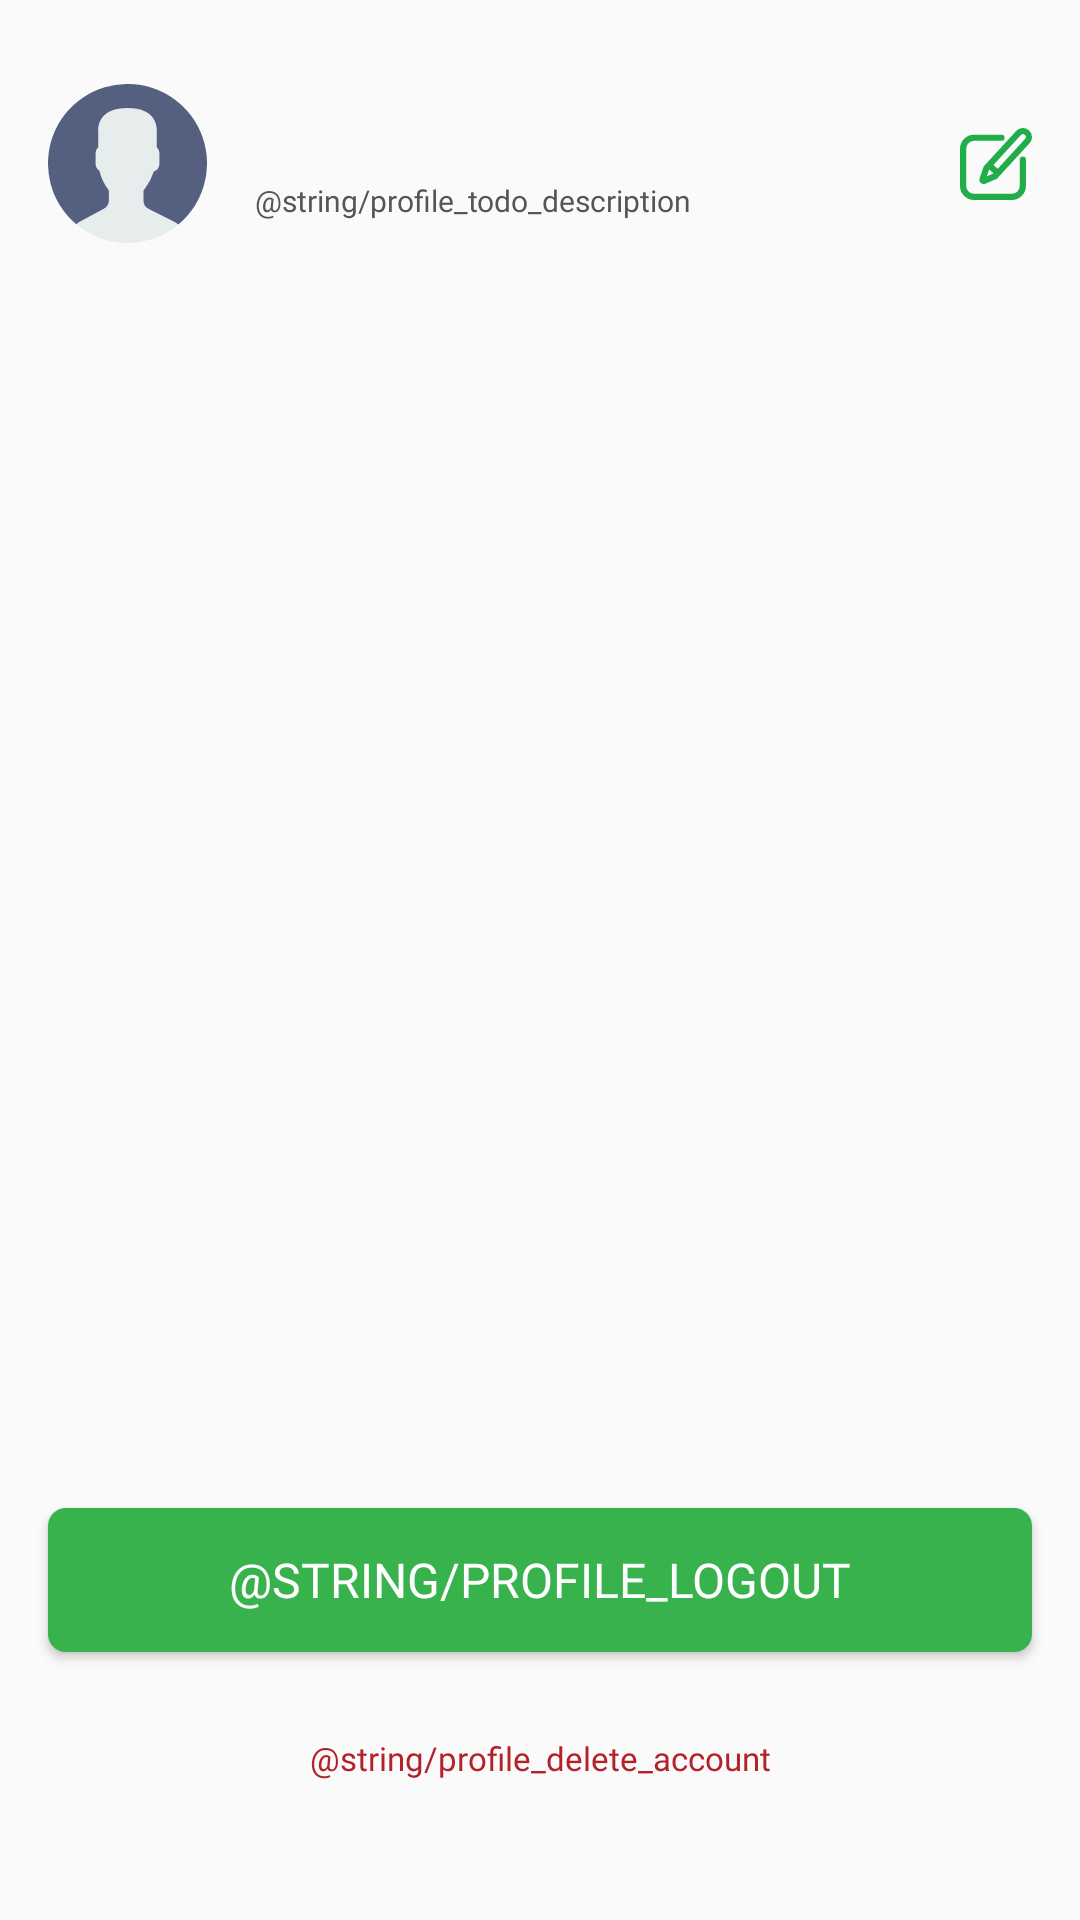

Locate icon controls on the screen. Image size 1080px×1920px, boxes as (x1=x1, y1=y1, x2=x2, y2=y2).
edit user: (x1=960, y1=128, x2=1032, y2=200)
user: (x1=48, y1=84, x2=207, y2=225)
